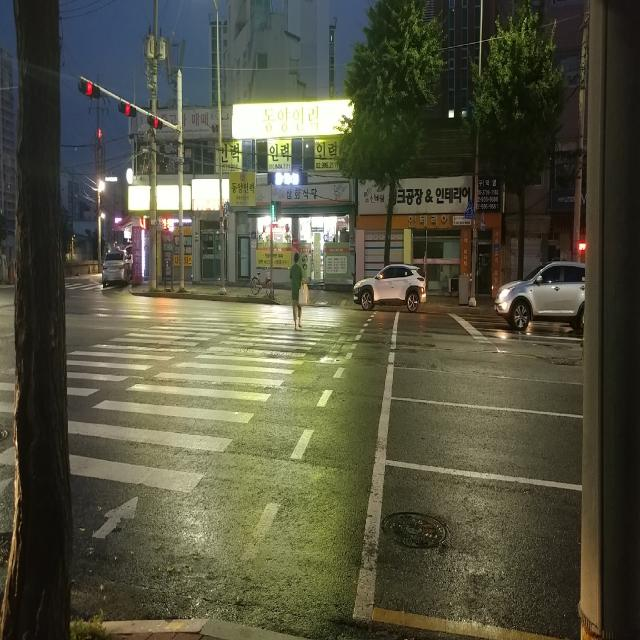횡단보도: (0, 306, 359, 540)
